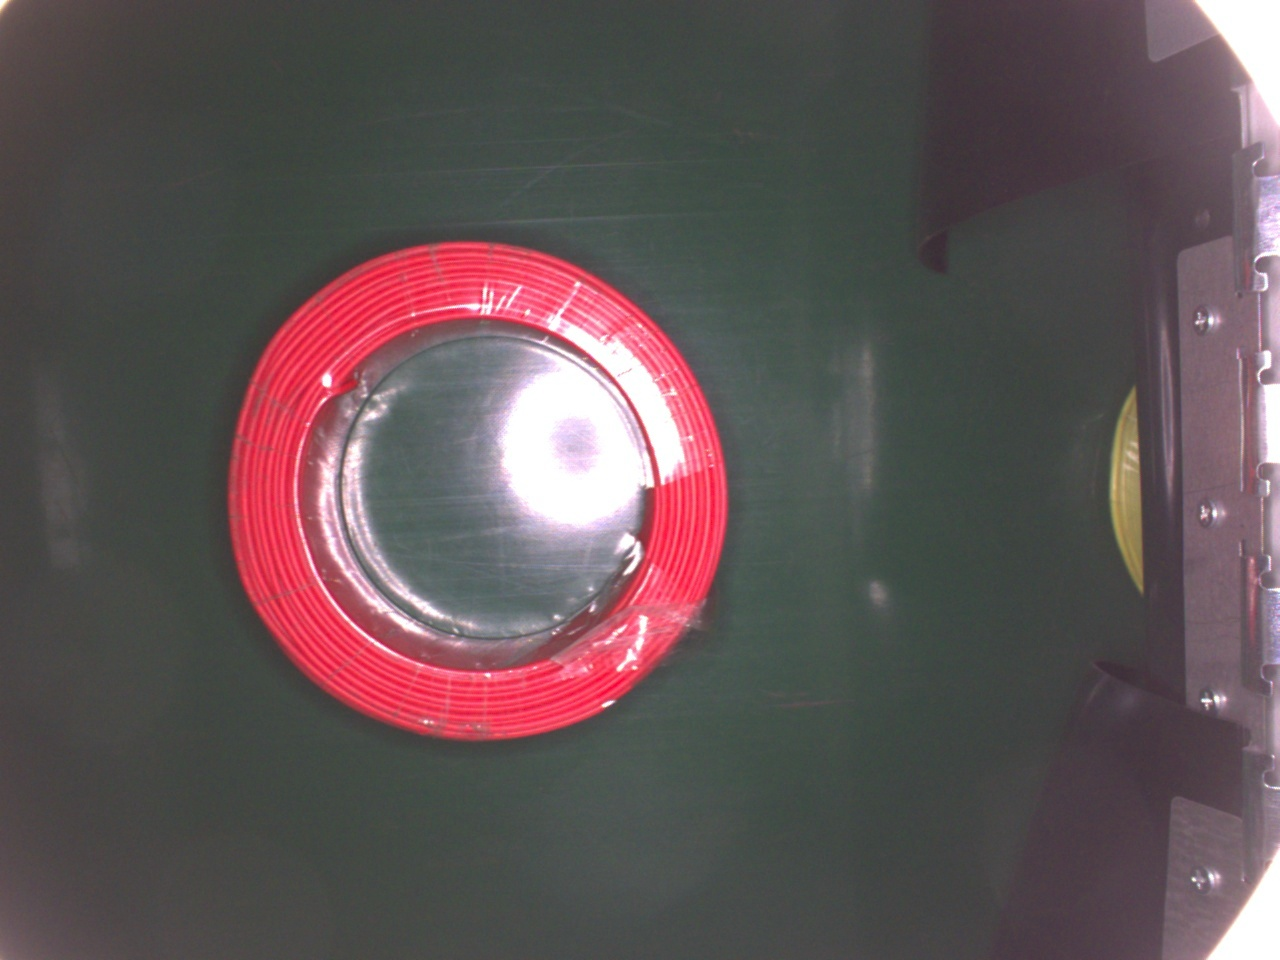red: (209, 236, 739, 745)
